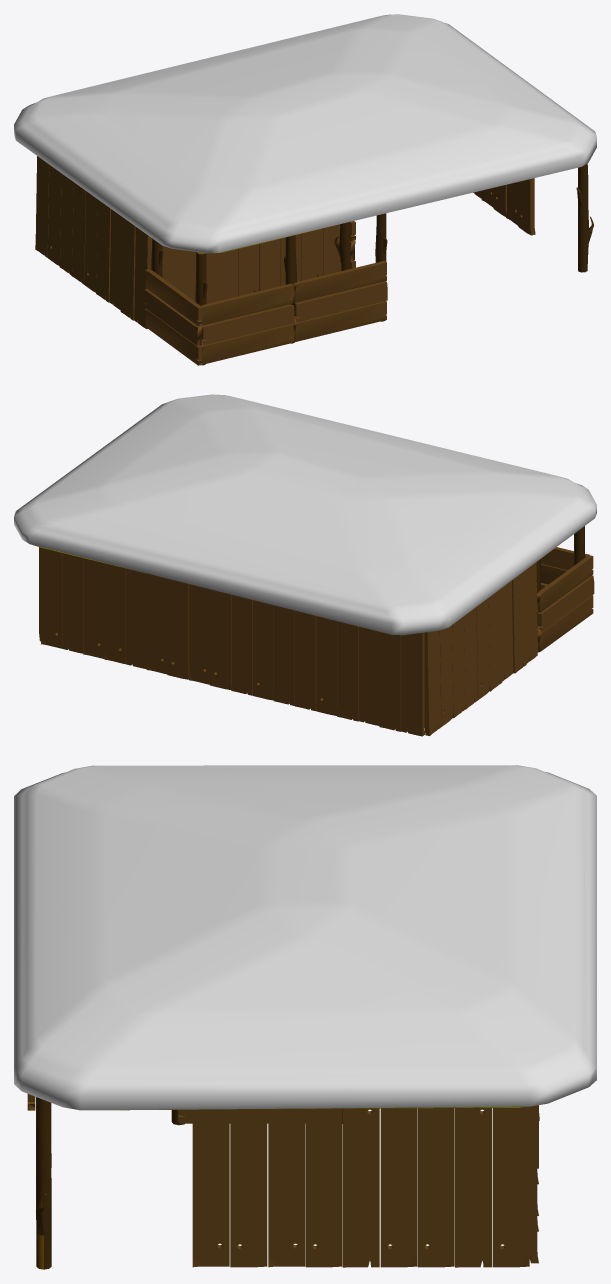
Rendered from Garage.fbx.
3 views of the same model, one above another, from view 1: azimuth 30°, elevation 25°; view 2: azimuth 150°, elevation 25°; view 3: azimuth 270°, elevation 25° (orthographic). The views are drawn at different scales.
Parts seen in each view (by area): view 1: pCube169; view 2: pCube169; view 3: pCube169.
Boxes of the visible parts, x1=… form: pCube169: x1=14, y1=14, x2=596, y2=365; pCube169: x1=14, y1=394, x2=596, y2=736; pCube169: x1=14, y1=765, x2=596, y2=1269.
Bounding box in the file's own units: 49.88 × 17.92 × 37.89.
